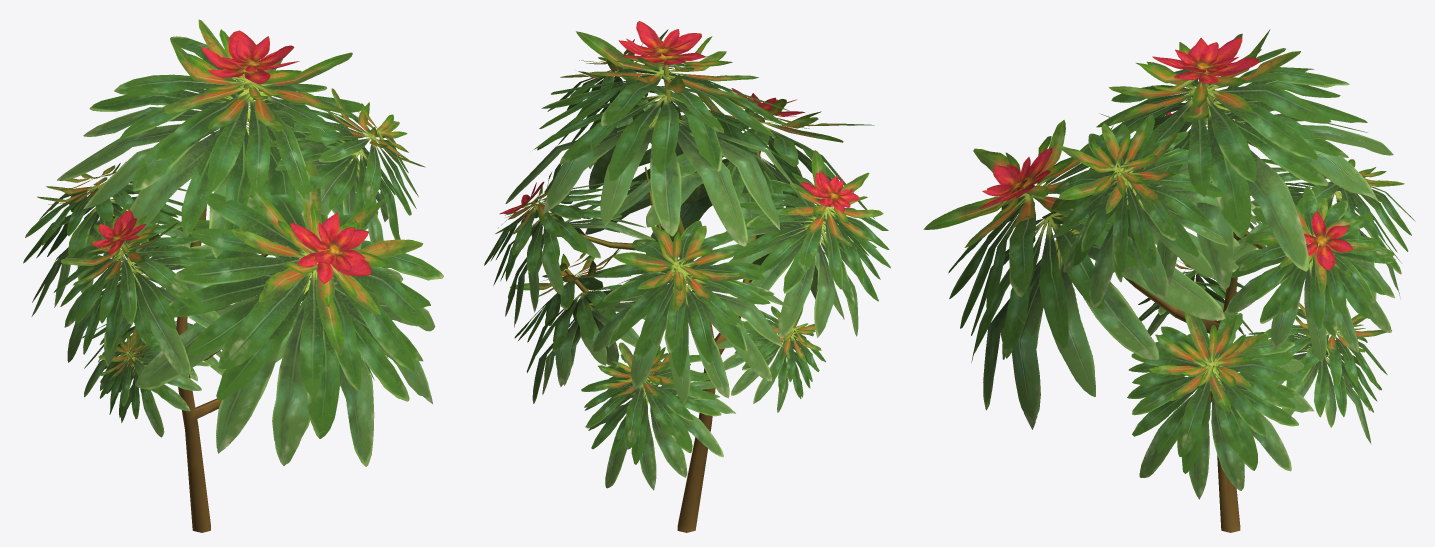
File: tropicalPlant_01.FBX
3 renders of one model, left to right at view 1: azimuth 30°, elevation 25°; view 2: azimuth 150°, elevation 25°; view 3: azimuth 270°, elevation 25°, orthographic. The views are drawn at different scales.
Parts seen in each view (by area): view 1: tropicalPlant_01; view 2: tropicalPlant_01; view 3: tropicalPlant_01.
Boxes of the visible parts, x1,y1,x2,y2 form: tropicalPlant_01: (23, 19, 443, 532); tropicalPlant_01: (484, 21, 890, 532); tropicalPlant_01: (923, 29, 1415, 532).
Bounding box in the file's own units: 69.77 × 90.84 × 82.02.
